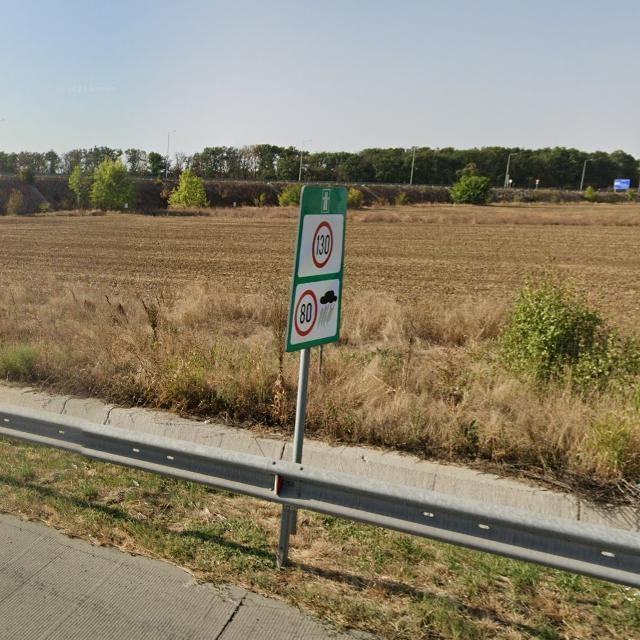forb_speed_over_80: (294, 290, 318, 337)
